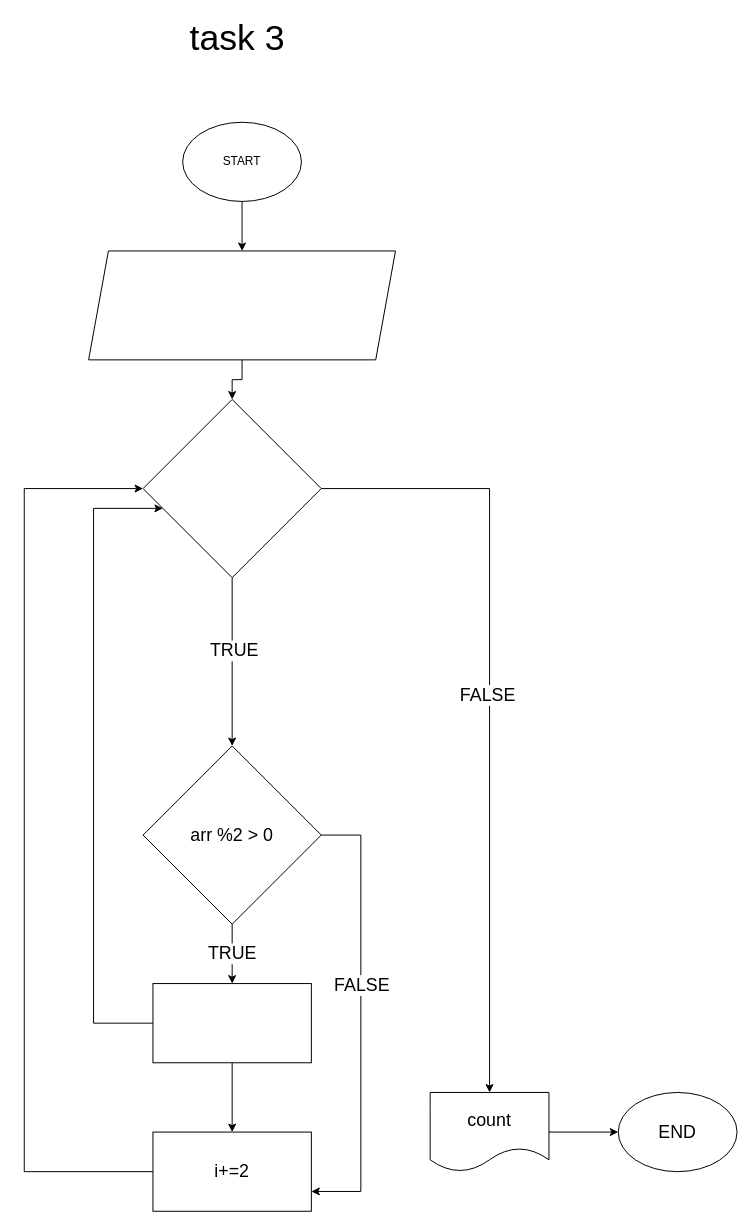
The diagram is 754 pixels wide and 1229 high, and some of its shapes have lost their labels. The centre of each missing label's shape, as x and y in pixels:
"arr=[3 , 5 , 7 , 9 ,11] i=0 count=0" belongs at point 242,305.
"i<arr.length" belongs at point 231,488.
"topla" belongs at point 231,1023.
